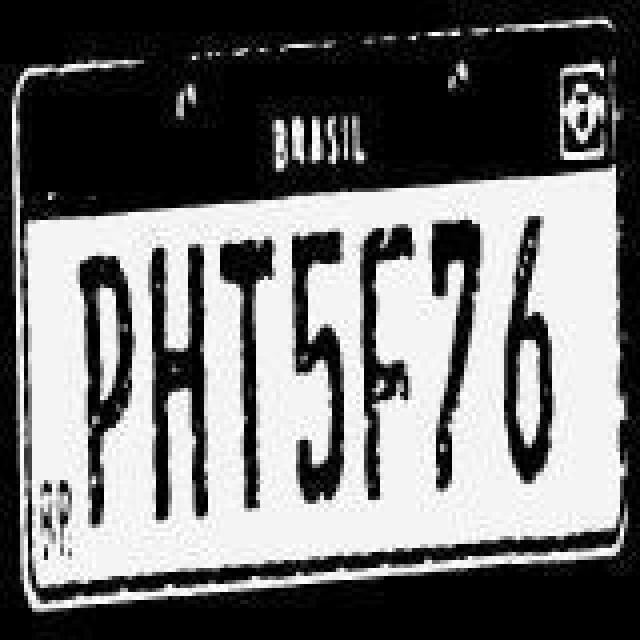5: (282, 214, 358, 522)
6: (500, 206, 580, 506)
7: (418, 210, 494, 510)
F: (348, 216, 420, 520)
H: (138, 218, 214, 542)
P: (68, 244, 148, 540)
T: (214, 216, 282, 528)
